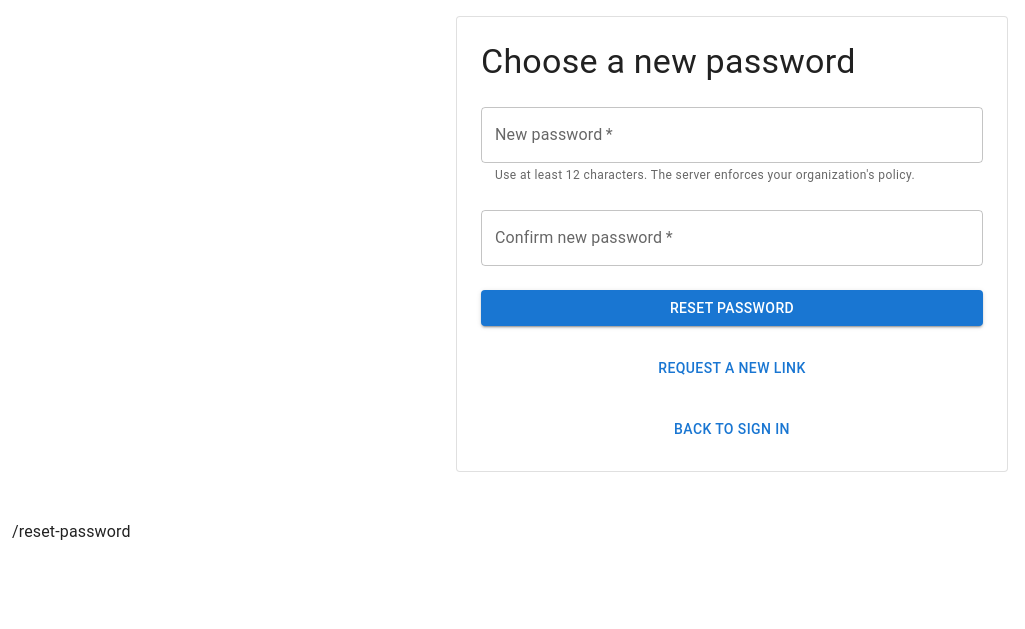
PRD-02 password recovery › rejects mismatched passwords before sending a request
Type "new-correct-horse-battery" into the password field labelled "New password *".
click(732, 135); type("new-correct-horse-battery")  # box x1=481 y1=107 x2=983 y2=163
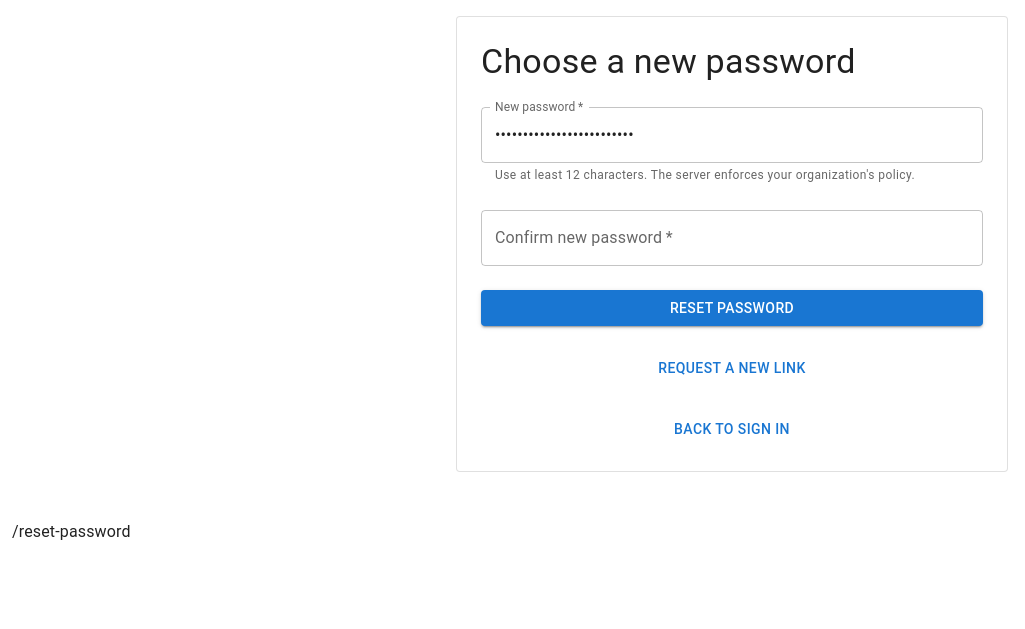
Type "different-password" into the password field labelled "Confirm new password *".
click(732, 238); type("different-password")  # box x1=481 y1=210 x2=983 y2=266
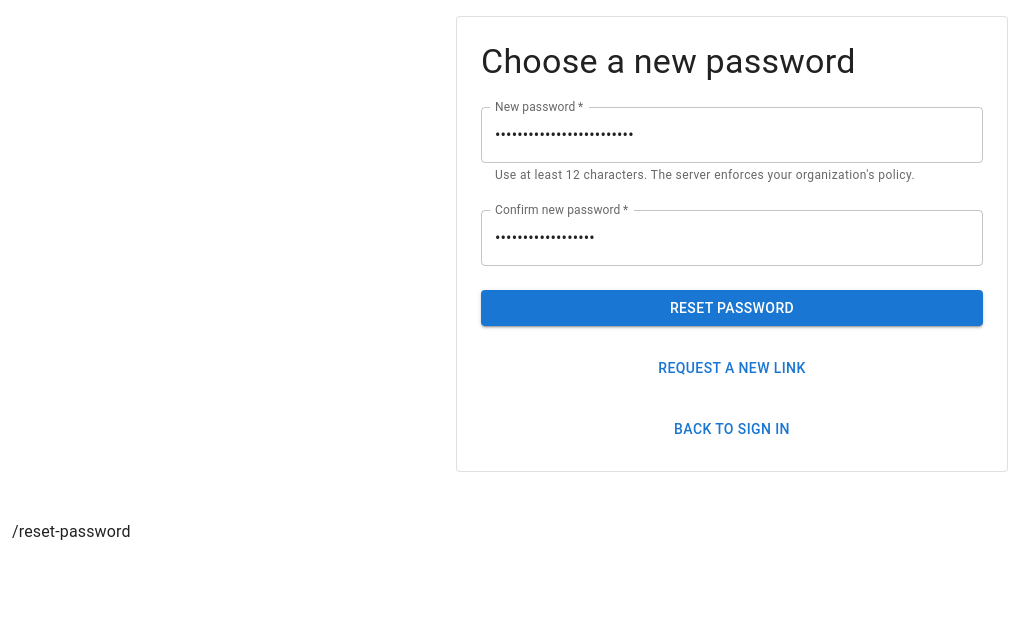
Submit the form named "Reset password", box x1=481 y1=41 x2=983 y2=447
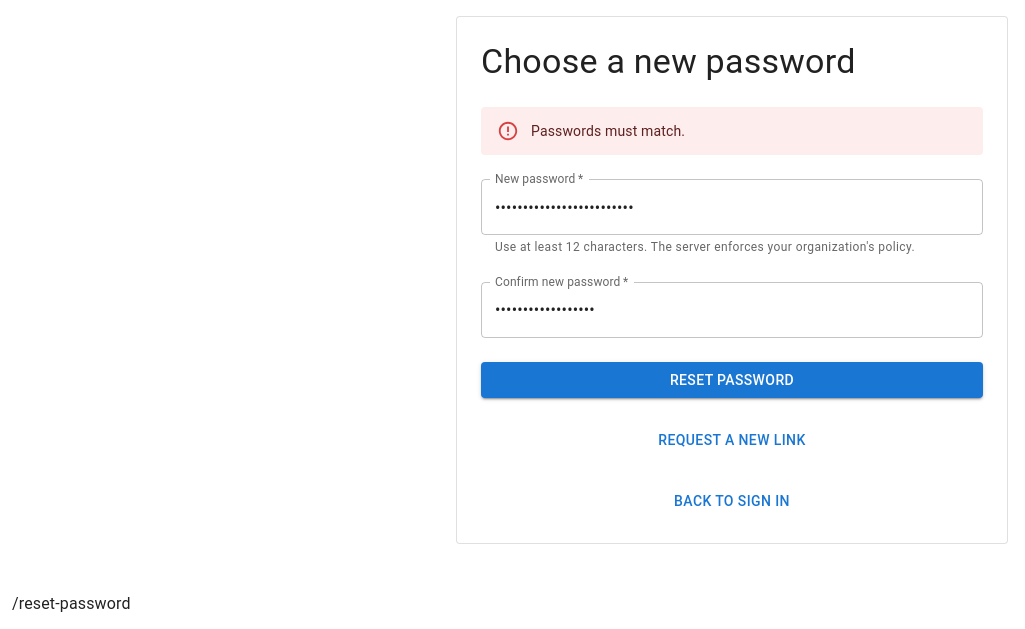
Now the text "Passwords must match." is shown, box x1=531 y1=123 x2=685 y2=139
